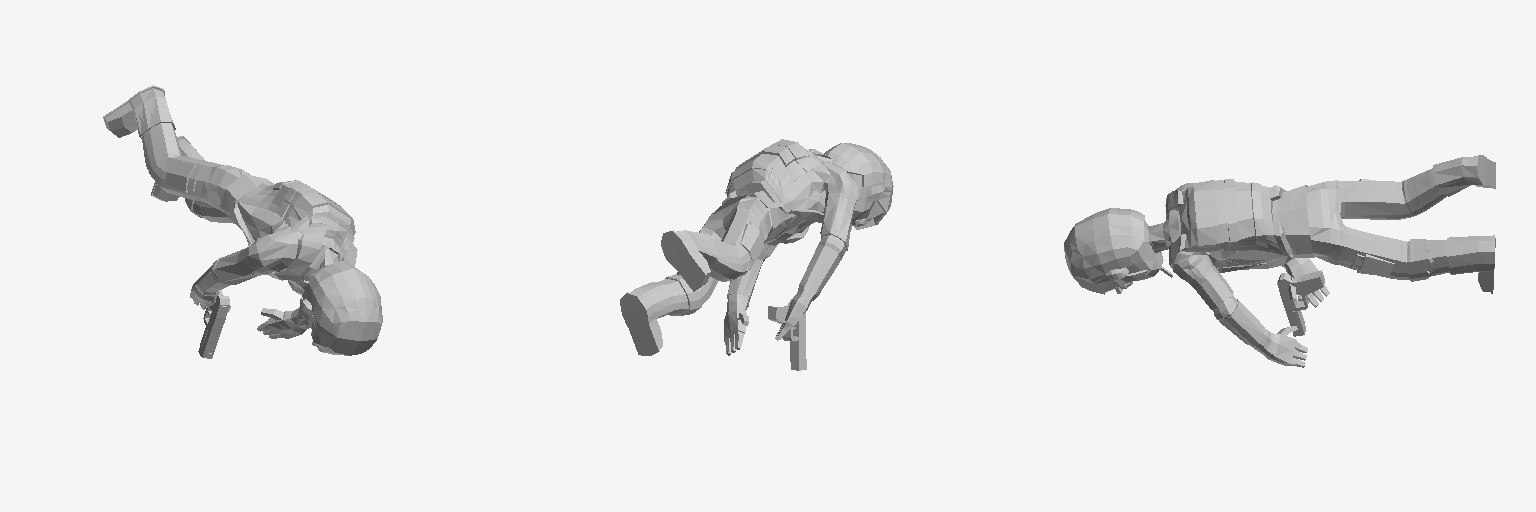
Rendered from frame_0012.obj.
3 views of the same model, side by side, from view 1: azimuth 30°, elevation 25°; view 2: azimuth 150°, elevation 25°; view 3: azimuth 270°, elevation 25° (orthographic).
Parts seen in each view (by area): view 1: Body, Gun; view 2: Body, Gun; view 3: Body, Gun.
Boxes of the visible parts, <box> form: Body: <box>103,85,382,355</box>; Gun: <box>198,290,229,358</box>; Body: <box>620,139,893,355</box>; Gun: <box>768,299,806,370</box>; Body: <box>1064,155,1495,367</box>; Gun: <box>1277,270,1324,336</box>.
Bounding box in the file's own units: 1.33 × 2.08 × 4.14.